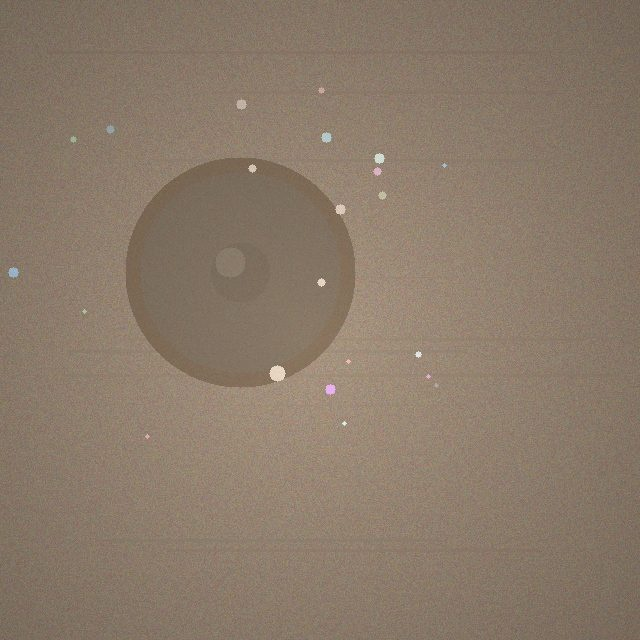overburn: (125, 157, 355, 387)
